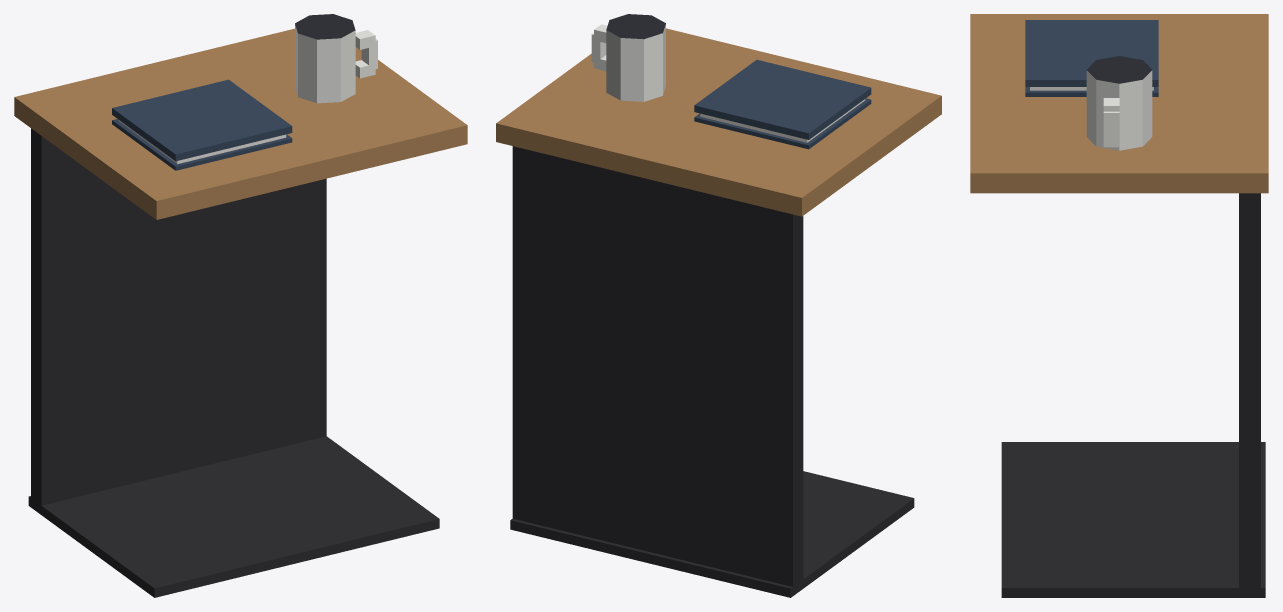
Rendered from FN_Table_Cframe.obj.
3 views of the same model, side by side, from view 1: azimuth 30°, elevation 25°; view 2: azimuth 150°, elevation 25°; view 3: azimuth 270°, elevation 25° (orthographic). The views are drawn at different scales.
Parts seen in each view (by area): view 1: FN_Table_Cframe; view 2: FN_Table_Cframe; view 3: FN_Table_Cframe.
Boxes of the visible parts, x1,y1,x2,y2 form: FN_Table_Cframe: (14,14,467,597); FN_Table_Cframe: (496,14,941,597); FN_Table_Cframe: (970,14,1268,597).
Bounding box in the file's own units: 0.48 × 0.7 × 0.38.
1 material, 1 textured.
